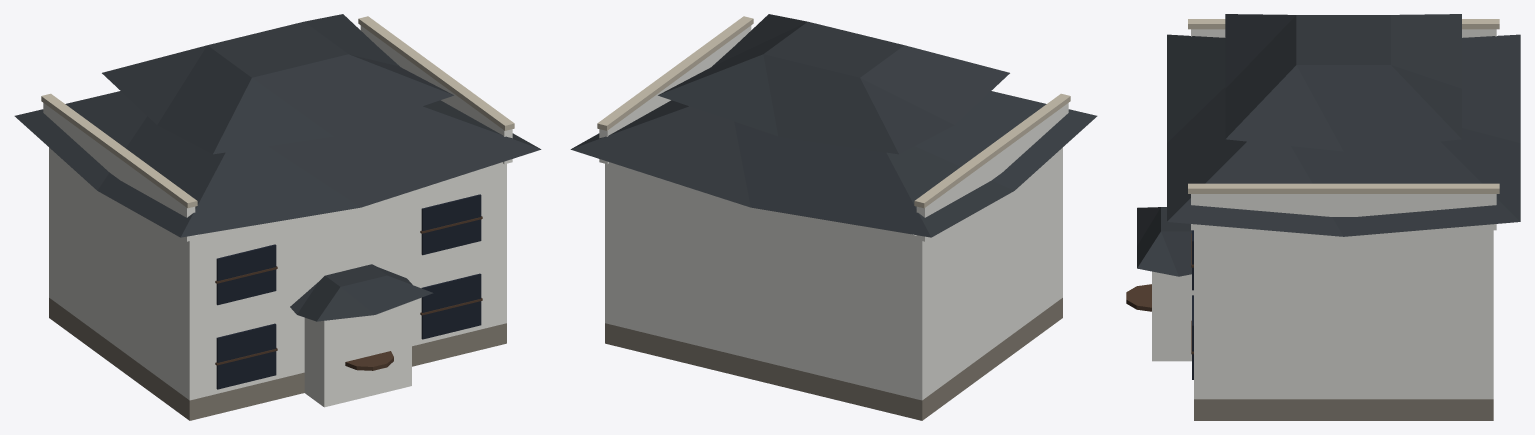
File: building_eastyork_s2_suzhou_manor.glb
3 renders of one model, left to right at view 1: azimuth 30°, elevation 25°; view 2: azimuth 150°, elevation 25°; view 3: azimuth 270°, elevation 25°, orthographic. The views are drawn at different scales.
Visible parts, largest first — view 1: building_eastyork_s2_suzhou_manor; view 2: building_eastyork_s2_suzhou_manor; view 3: building_eastyork_s2_suzhou_manor.
Part boxes in pixels (x1,y1,x2,y2): building_eastyork_s2_suzhou_manor: (14, 14, 541, 420); building_eastyork_s2_suzhou_manor: (570, 14, 1097, 420); building_eastyork_s2_suzhou_manor: (1126, 14, 1520, 420).
Size of the model in its own units: 14.8 by 11 by 13.15.
1 material, 1 textured.
